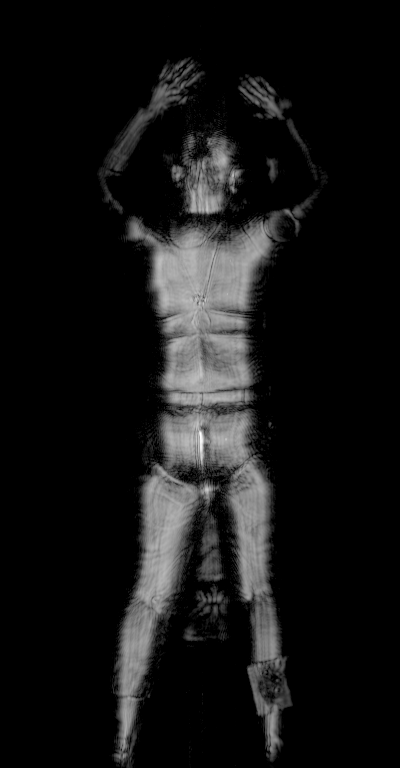head: (167, 124, 248, 200)
others: (244, 654, 297, 719), (265, 207, 302, 248)
person: (96, 57, 323, 768)
